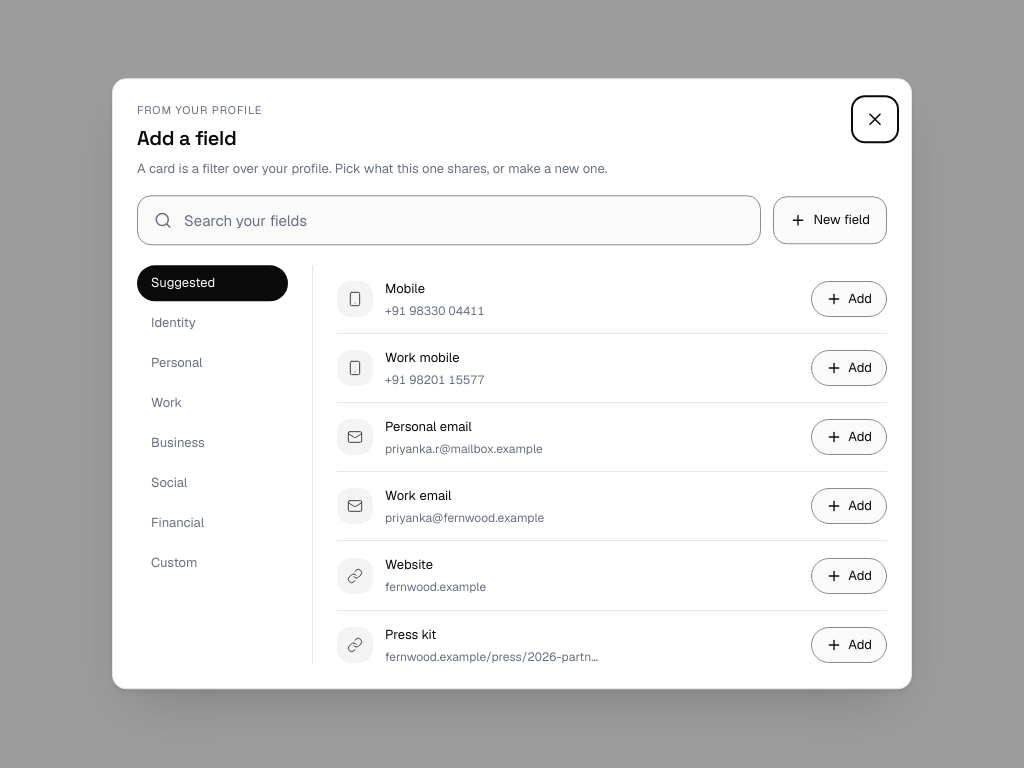
Scenario: the route to a field the profile does not have › reveals the form when pressed
Click the button "New field".
click(830, 220)  # box [773, 196, 887, 244]
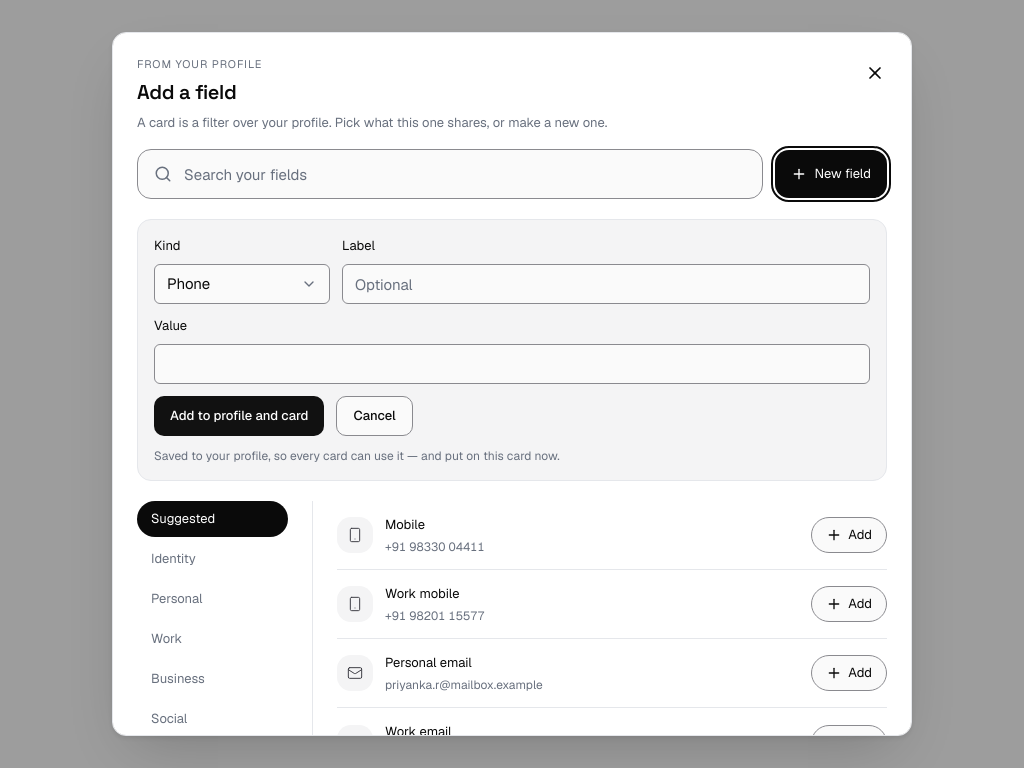
Check: the form is shown, box [137, 219, 887, 481]
Check: the button "New field" is expanded, box [775, 150, 887, 198]
